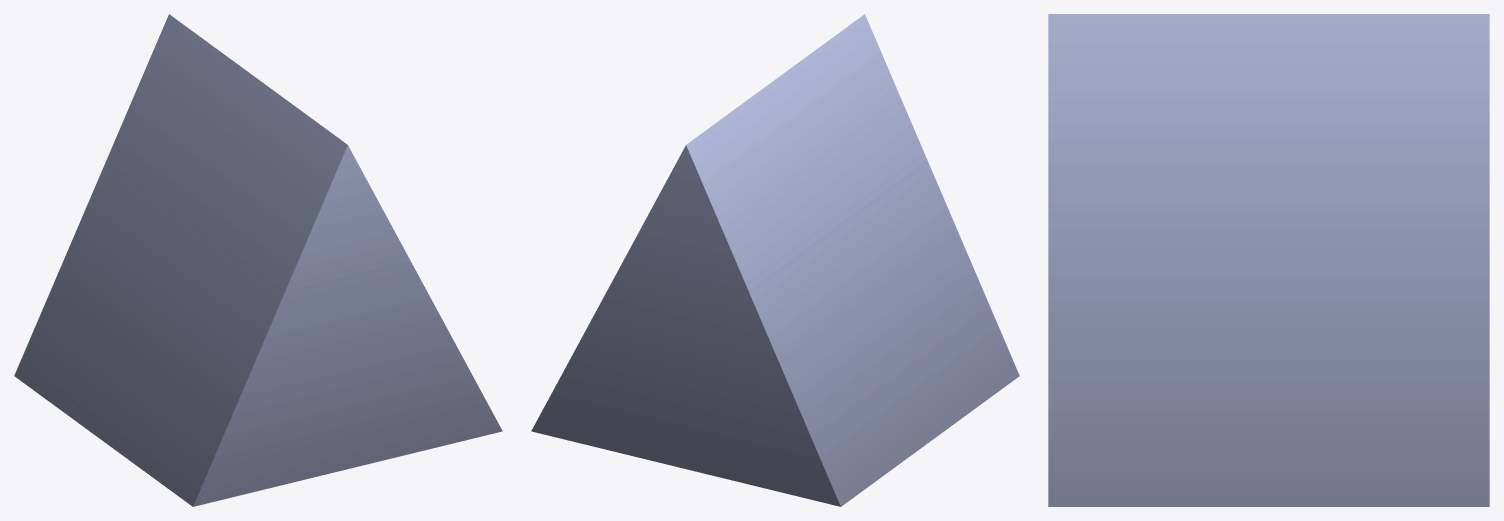
Rendered from shape-triangular-prism.fbx.
The picture shows the model from 3 angles, left to right: view 1: azimuth 30°, elevation 25°; view 2: azimuth 150°, elevation 25°; view 3: azimuth 270°, elevation 25°; orthographic projection. The views are drawn at different scales.
Parts seen in each view (by area): view 1: shape-triangular-prism; view 2: shape-triangular-prism; view 3: shape-triangular-prism.
Part boxes in pixels (x1,y1,x2,y2): shape-triangular-prism: [14, 14, 502, 506]; shape-triangular-prism: [531, 14, 1019, 506]; shape-triangular-prism: [1048, 14, 1489, 506].
Bounding box in the file's own units: 100 × 100 × 100.
